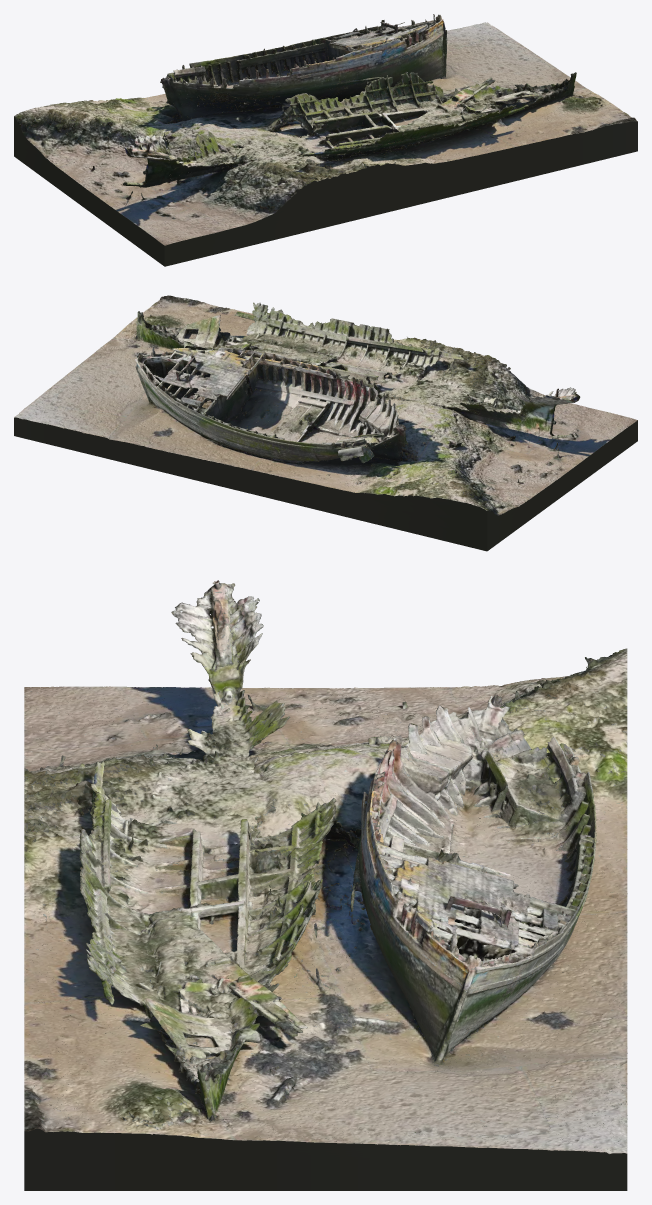
The model's file is barling_wrecks.glb.
3 views of the same model, one above another, from view 1: azimuth 30°, elevation 25°; view 2: azimuth 150°, elevation 25°; view 3: azimuth 270°, elevation 25° (orthographic). The views are drawn at different scales.
Visible parts, largest first — view 1: Object_3, Object_4, Object_5, Object_6, Object_11, Object_10, Object_7, Object_12, Object_9, Object_8; view 2: Object_3, Object_4, Object_6, Object_7, Object_5, Object_10, Object_8, Object_12, Object_9, Object_11; view 3: Object_3, Object_8, Object_10, Object_6, Object_5, Object_7, Object_11, Object_12, Object_4, Object_9.
Boxes of the visible parts, <box> form: Object_3: <box>14,22,637,266</box>; Object_4: <box>19,77,346,233</box>; Object_5: <box>56,54,382,244</box>; Object_6: <box>86,62,606,214</box>; Object_11: <box>256,39,506,176</box>; Object_10: <box>228,14,569,130</box>; Object_7: <box>222,20,525,137</box>; Object_12: <box>275,72,627,168</box>; Object_9: <box>192,14,490,103</box>; Object_8: <box>334,14,559,98</box>; Object_3: <box>14,295,637,551</box>; Object_4: <box>312,351,599,513</box>; Object_6: <box>104,308,587,484</box>; Object_7: <box>51,323,408,448</box>; Object_5: <box>288,354,633,493</box>; Object_10: <box>19,340,375,479</box>; Object_8: <box>81,348,252,451</box>; Object_12: <box>107,296,450,399</box>; Object_9: <box>140,347,350,483</box>; Object_11: <box>186,318,468,483</box>; Object_3: <box>24,648,627,1190</box>; Object_8: <box>257,860,627,1135</box>; Object_10: <box>223,738,627,1151</box>; Object_6: <box>51,679,596,1137</box>; Object_5: <box>24,580,597,911</box>; Object_7: <box>162,751,619,1136</box>; Object_11: <box>24,740,627,1001</box>; Object_12: <box>24,774,263,1138</box>; Object_4: <box>24,657,608,847</box>; Object_9: <box>262,774,626,1064</box>.
Size of the model in its own units: 32.09 by 5.49 by 17.71.
Materials: 1 (1 with a texture image).
